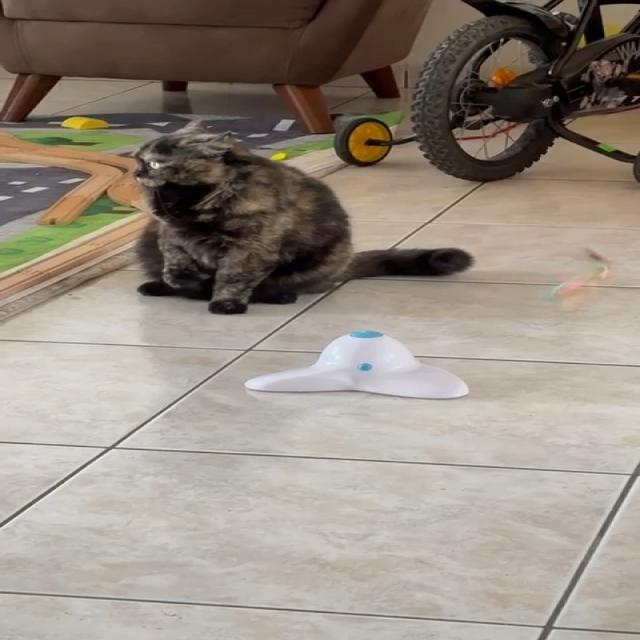authorized: (129, 118, 475, 314)
